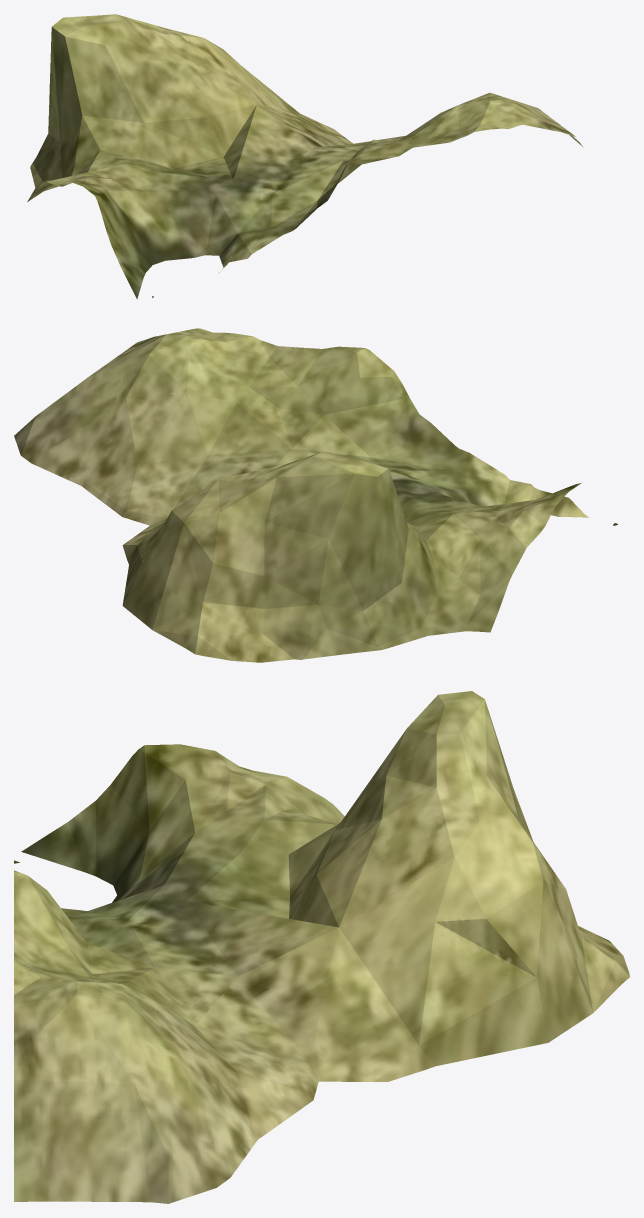
3 views of the same model, one above another, from view 1: azimuth 30°, elevation 25°; view 2: azimuth 150°, elevation 25°; view 3: azimuth 270°, elevation 25° (orthographic). The views are drawn at different scales.
Bounding box in the file's own units: 2.59 × 0.7295 × 1.91.
2 materials, 2 textured.
